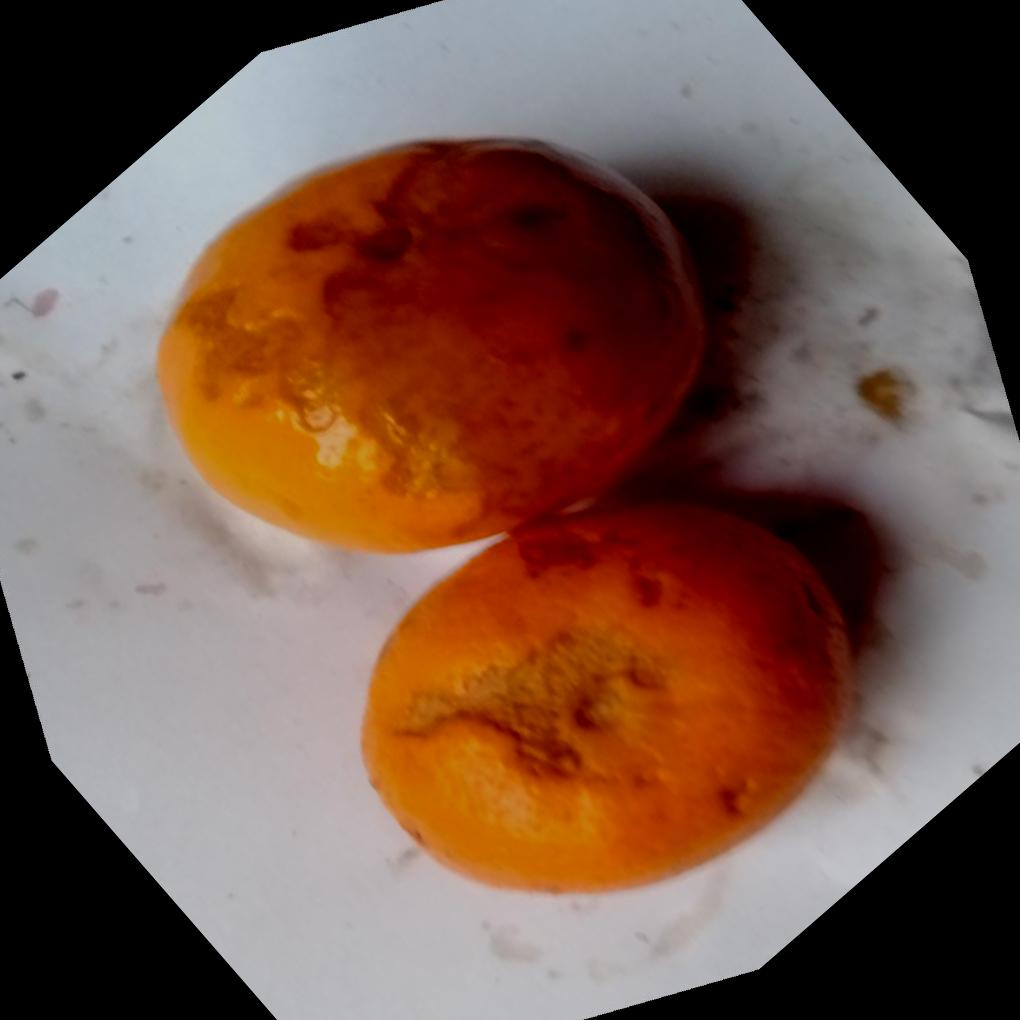FreshOrange: (155, 132, 864, 897)
